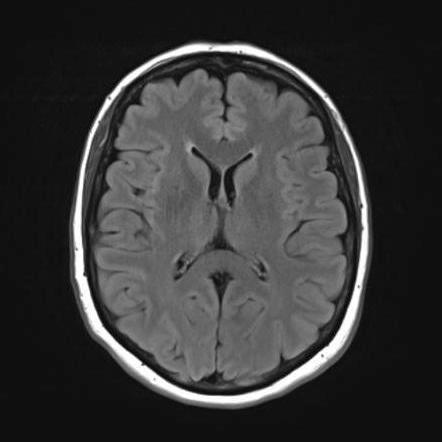Normal_Brain: (1, 1, 442, 425)
